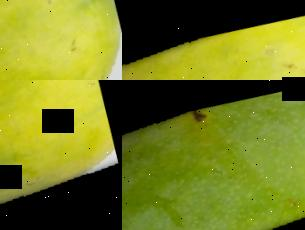PartiallyRipe: (0, 80, 122, 230), (122, 0, 305, 80), (0, 0, 122, 80)
Unripe: (122, 80, 305, 230)
